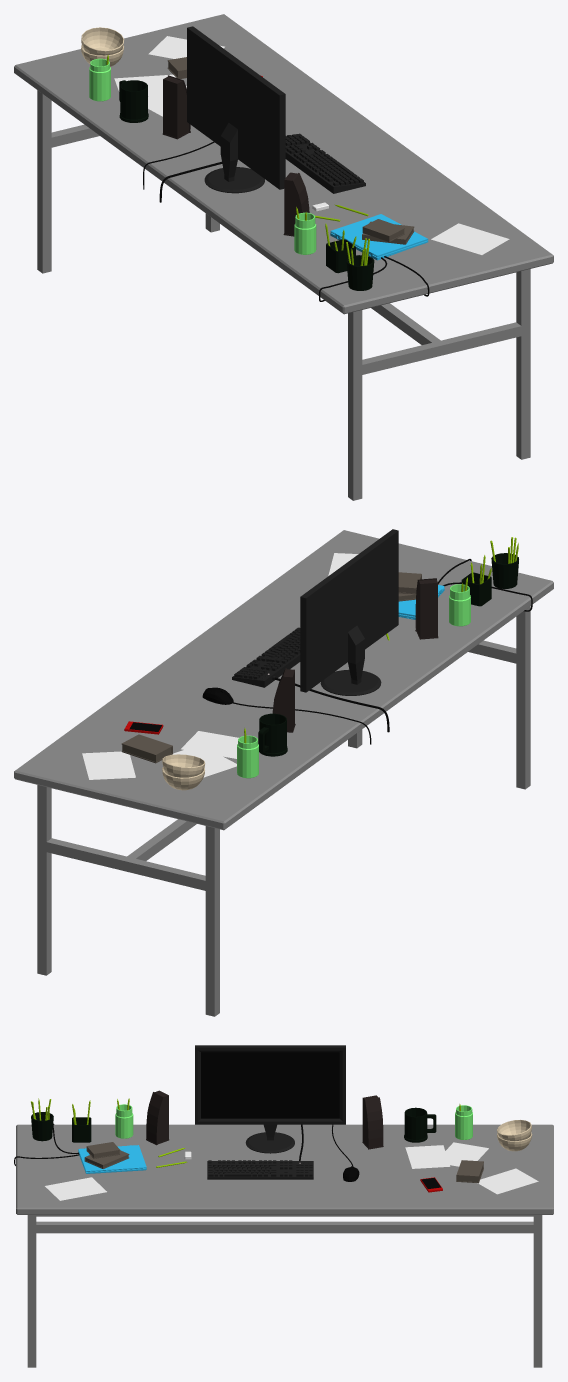
Rendered from mesa.obj.
3 views of the same model, one above another, from view 1: azimuth 30°, elevation 25°; view 2: azimuth 150°, elevation 25°; view 3: azimuth 270°, elevation 25° (orthographic). The views are drawn at different scales.
Visible parts, largest first — view 1: Desk_Cube.001, PC_Monitor_Cube.003, Boxes_Cylinder.001, Paper_Plane, PC_Speaker_Cube.002, PC_Keyboard_Cube.004, Notebook_Cube.006, Books_Cube.005, Dish_Sphere, Pen_Cylinder.003; view 2: Desk_Cube.001, PC_Monitor_Cube.003, Boxes_Cylinder.001, Paper_Plane, PC_Speaker_Cube.002, PC_Keyboard_Cube.004, Books_Cube.005, Dish_Sphere, Pen_Cylinder.003; view 3: Desk_Cube.001, PC_Monitor_Cube.003, Paper_Plane, Boxes_Cylinder.001, PC_Speaker_Cube.002, PC_Keyboard_Cube.004, Books_Cube.005, Notebook_Cube.006, Dish_Sphere, Pen_Cylinder.003.
Boxes of the visible parts, bbox=[...] form: Desk_Cube.001: bbox=[14, 14, 553, 500]; PC_Monitor_Cube.003: bbox=[187, 26, 285, 193]; Boxes_Cylinder.001: bbox=[89, 58, 374, 290]; Paper_Plane: bbox=[114, 36, 509, 254]; PC_Speaker_Cube.002: bbox=[162, 75, 309, 236]; PC_Keyboard_Cube.004: bbox=[285, 133, 365, 193]; Notebook_Cube.006: bbox=[330, 214, 428, 260]; Books_Cube.005: bbox=[167, 57, 414, 244]; Dish_Sphere: bbox=[81, 27, 124, 66]; Pen_Cylinder.003: bbox=[106, 54, 369, 265]; Desk_Cube.001: bbox=[14, 530, 553, 1016]; PC_Monitor_Cube.003: bbox=[300, 529, 398, 695]; Boxes_Cylinder.001: bbox=[237, 553, 518, 778]; Paper_Plane: bbox=[82, 553, 358, 779]; PC_Speaker_Cube.002: bbox=[272, 578, 438, 732]; PC_Keyboard_Cube.004: bbox=[232, 627, 300, 687]; Books_Cube.005: bbox=[121, 572, 421, 763]; Dish_Sphere: bbox=[162, 754, 205, 790]; Pen_Cylinder.003: bbox=[244, 537, 518, 743]; Desk_Cube.001: bbox=[16, 1124, 553, 1367]; PC_Monitor_Cube.003: bbox=[195, 1045, 345, 1153]; Paper_Plane: bbox=[45, 1142, 538, 1200]; Boxes_Cylinder.001: bbox=[31, 1104, 472, 1142]; PC_Speaker_Cube.002: bbox=[146, 1090, 383, 1149]; PC_Keyboard_Cube.004: bbox=[207, 1160, 313, 1179]; Books_Cube.005: bbox=[84, 1142, 483, 1183]; Notebook_Cube.006: bbox=[78, 1145, 146, 1173]; Dish_Sphere: bbox=[497, 1119, 532, 1151]; Pen_Cylinder.003: bbox=[31, 1098, 460, 1167].
Size of the model in its own units: 2.31 by 3.24 by 6.02.
